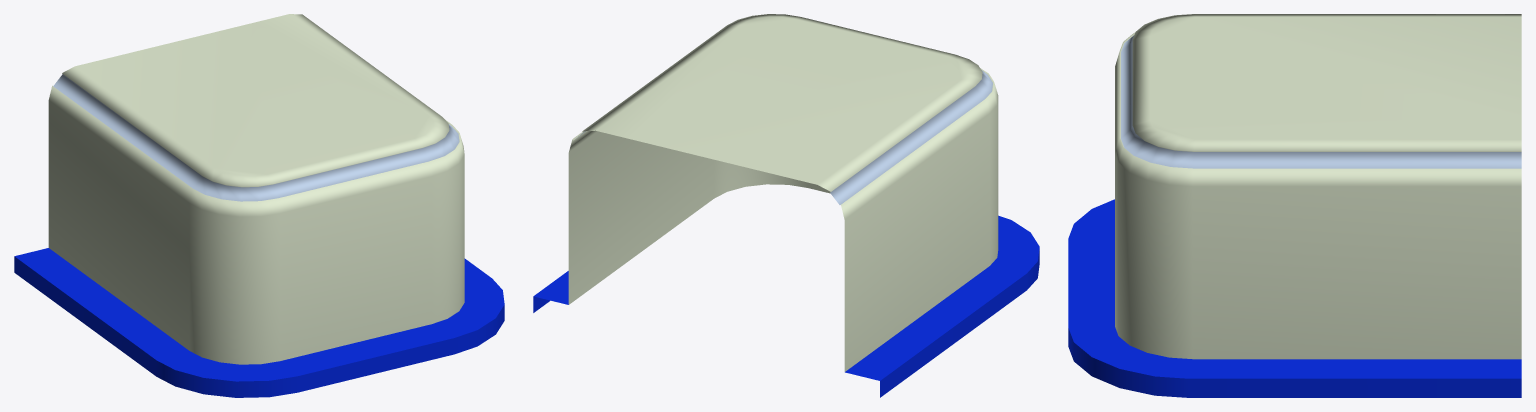
File: Wall_Island_End.fbx
The picture shows the model from 3 angles, left to right: view 1: azimuth 30°, elevation 25°; view 2: azimuth 150°, elevation 25°; view 3: azimuth 270°, elevation 25°; orthographic projection. The views are drawn at different scales.
Visible parts, largest first — view 1: Wall_Island_End; view 2: Wall_Island_End; view 3: Wall_Island_End.
Boxes of the visible parts, left/top/right/bottom form: Wall_Island_End: left=14, top=14, right=504, bottom=397; Wall_Island_End: left=533, top=14, right=1039, bottom=397; Wall_Island_End: left=1068, top=14, right=1521, bottom=397.
Bounding box in the file's own units: 100 × 54.53 × 100.
